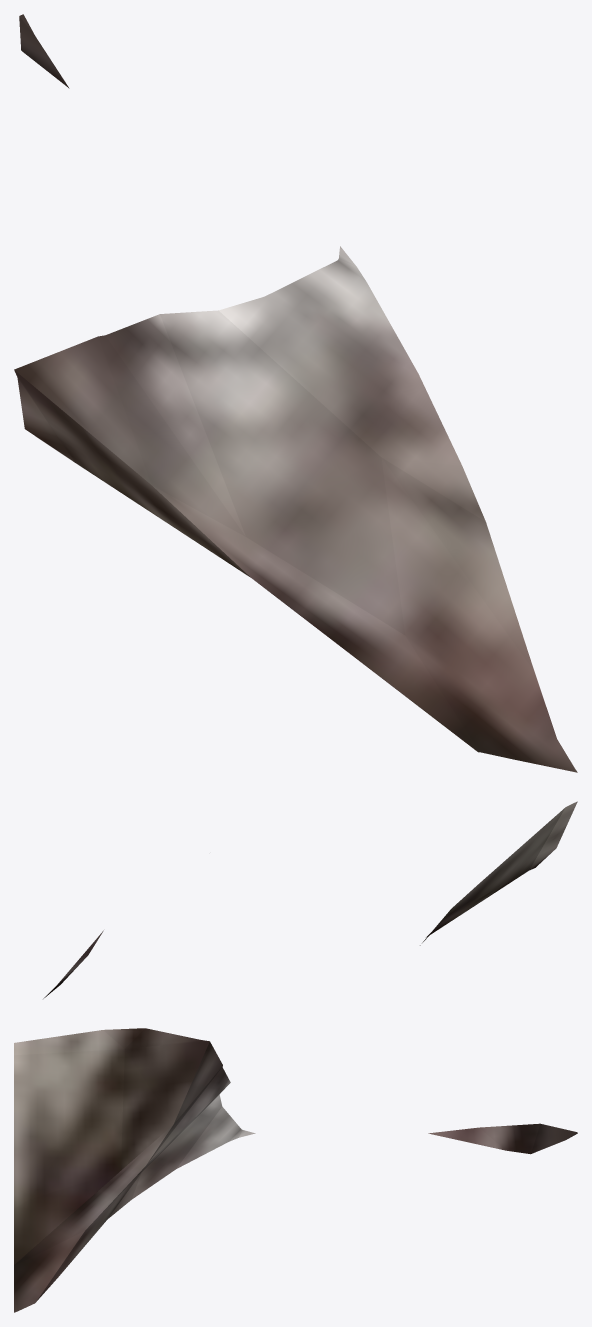
The picture shows the model from 3 angles, top to bottom: view 1: azimuth 30°, elevation 25°; view 2: azimuth 150°, elevation 25°; view 3: azimuth 270°, elevation 25°; orthographic projection. The views are drawn at different scales.
Bounding box in the file's own units: 0.1165 × 0.0926 × 0.2637.
Materials: 1 (1 with a texture image).
